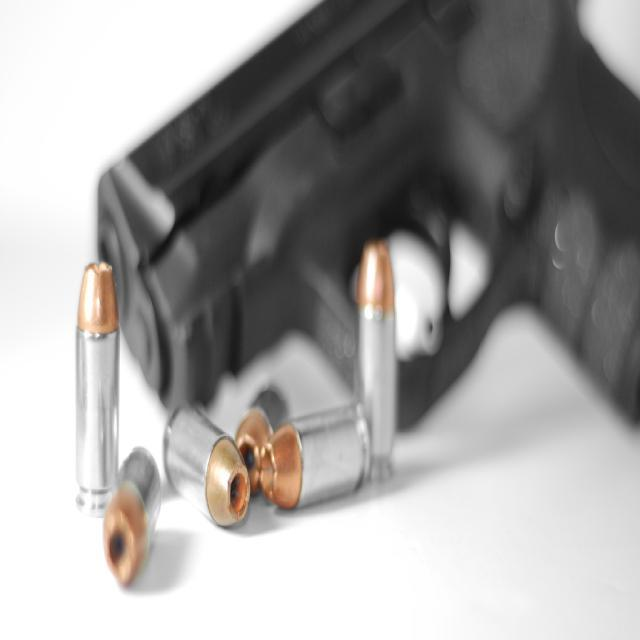Gun: (99, 0, 640, 428)
